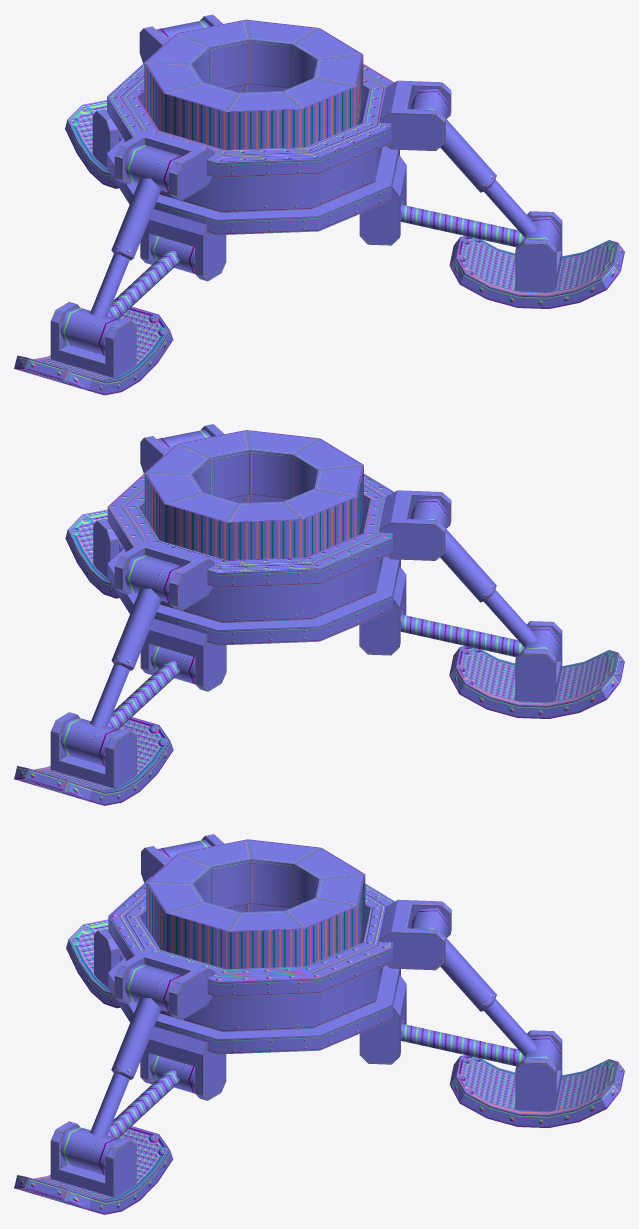
The picture shows the model from 3 angles, top to bottom: view 1: azimuth 30°, elevation 25°; view 2: azimuth 150°, elevation 25°; view 3: azimuth 270°, elevation 25°; orthographic projection.
Visible parts, largest first — view 1: Base; view 2: Base; view 3: Base.
Part boxes in pixels (box(x1,y1,x2,y2)): Base: box(14, 14, 624, 395); Base: box(14, 424, 624, 805); Base: box(14, 834, 624, 1214).
Size of the model in its own units: 134 by 47.24 by 124.
